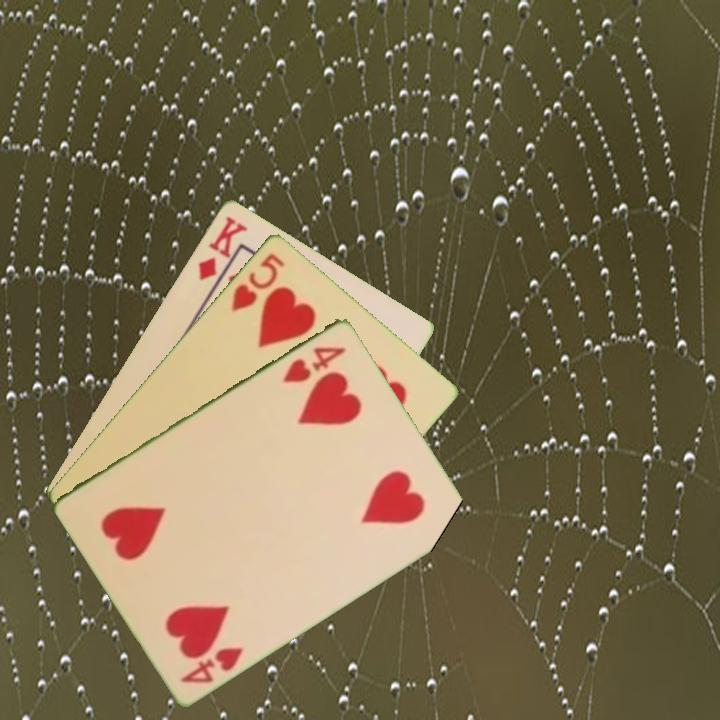4h: (279, 342, 349, 386), (177, 643, 246, 686)
5h: (227, 248, 288, 315)
Kd: (194, 211, 251, 283)
